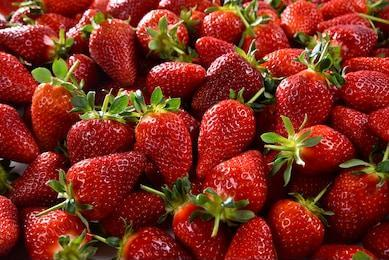Fresa: (64, 148, 151, 224), (191, 94, 258, 182), (322, 157, 389, 242), (132, 104, 198, 190), (191, 51, 271, 116), (270, 63, 335, 142), (201, 145, 272, 217), (282, 120, 360, 180), (15, 203, 96, 260), (83, 14, 144, 87), (27, 77, 81, 153)
